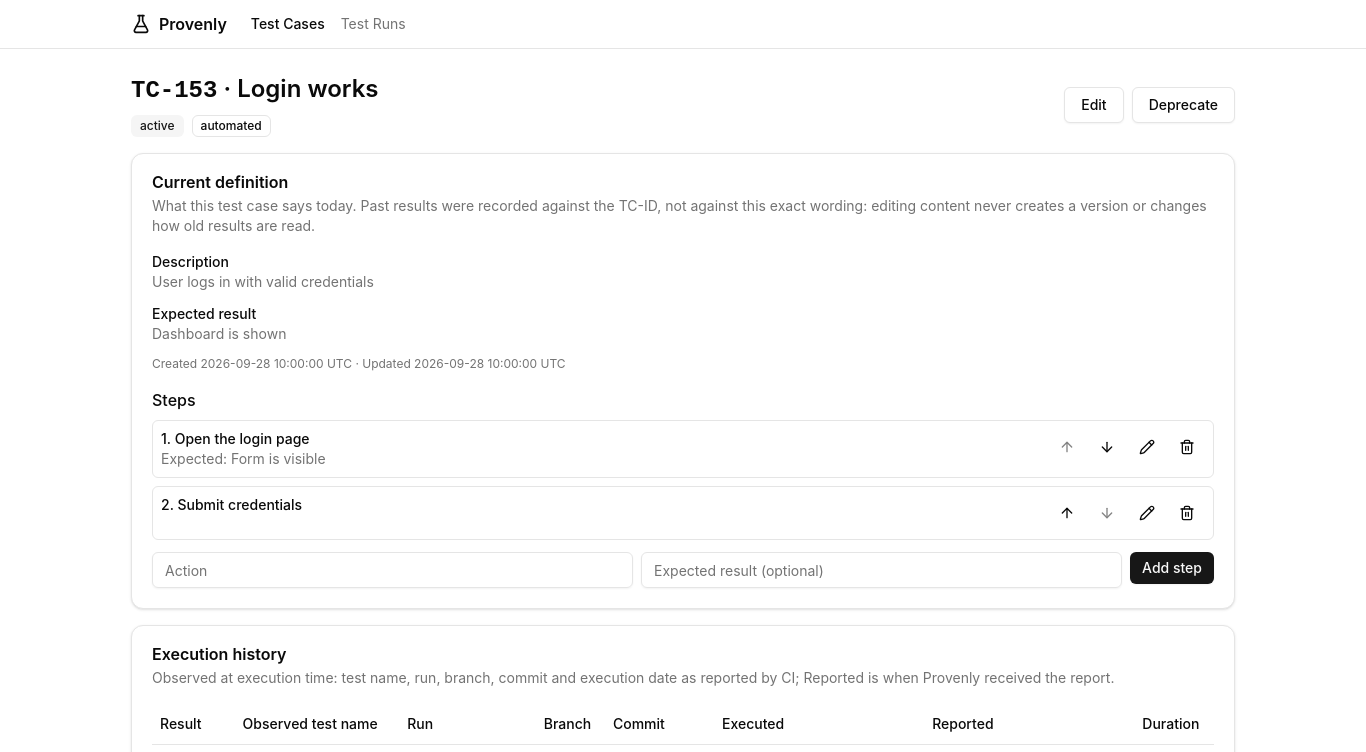
Scenario: FE-INT-019 step editor feedback › FE-INT-019 a rejected step keeps what was typed; only the latest error shows; failures refetch the list
Expected: the list named "Steps" is shown, [152, 420, 1214, 540]
Type "keep me" into the field named "Step action".
click(392, 570); type("keep me")  # box [152, 552, 633, 588]
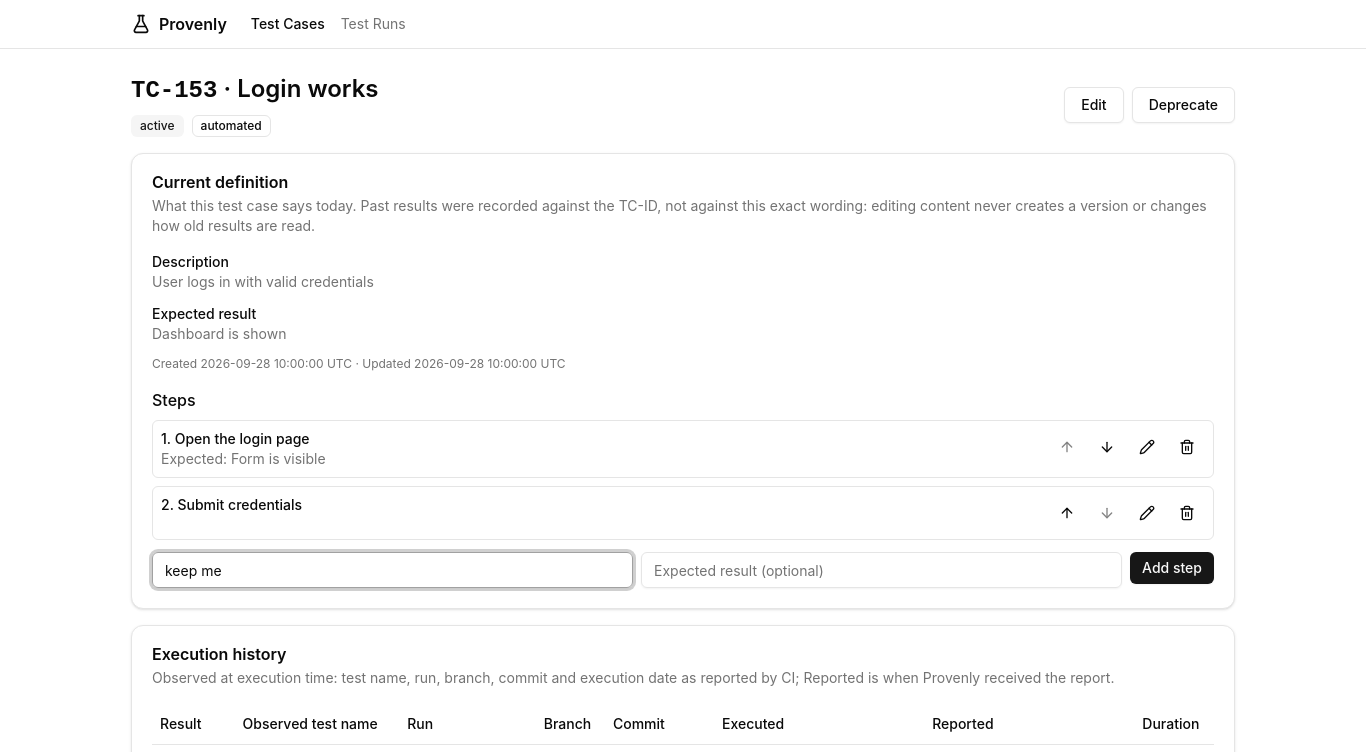
Type "and me" into the field named "Step expected result".
click(882, 570); type("and me")  # box [641, 552, 1122, 588]
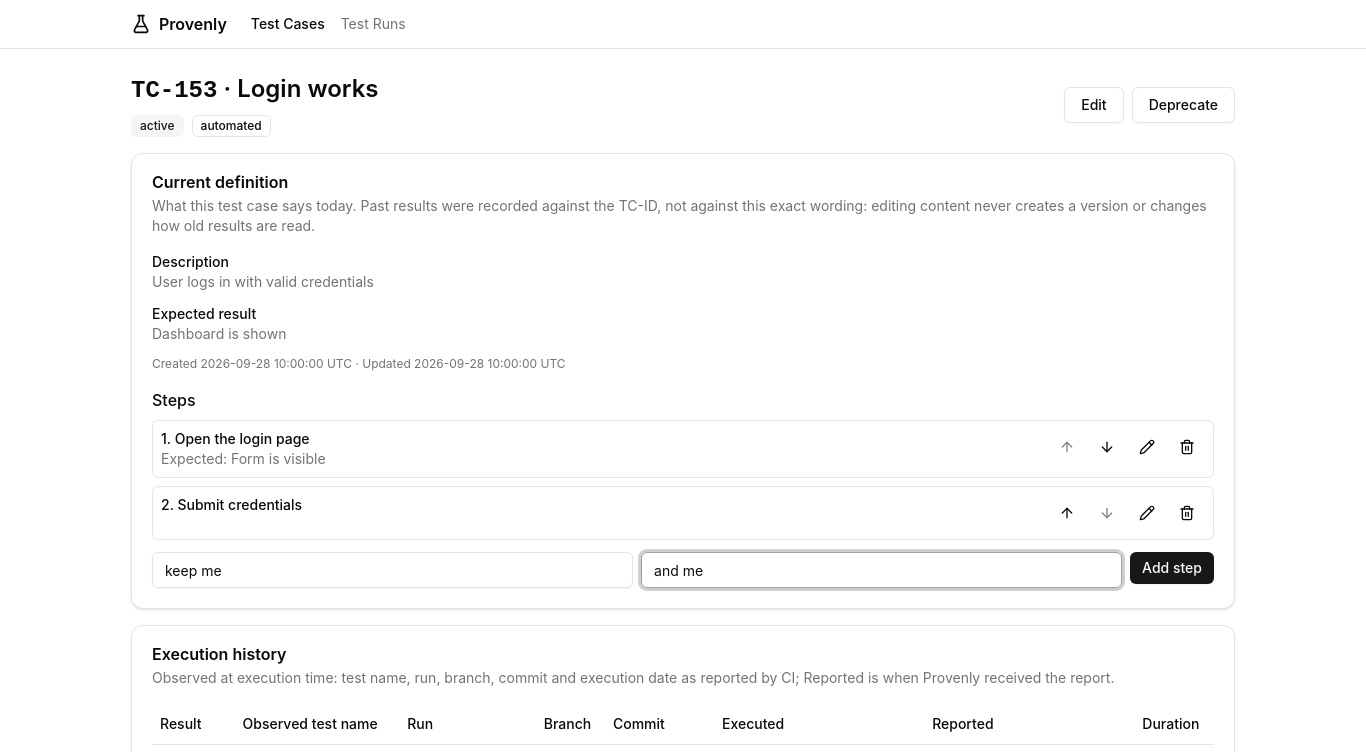
Click the button "Add step".
click(1172, 568)  # box [1130, 552, 1214, 584]
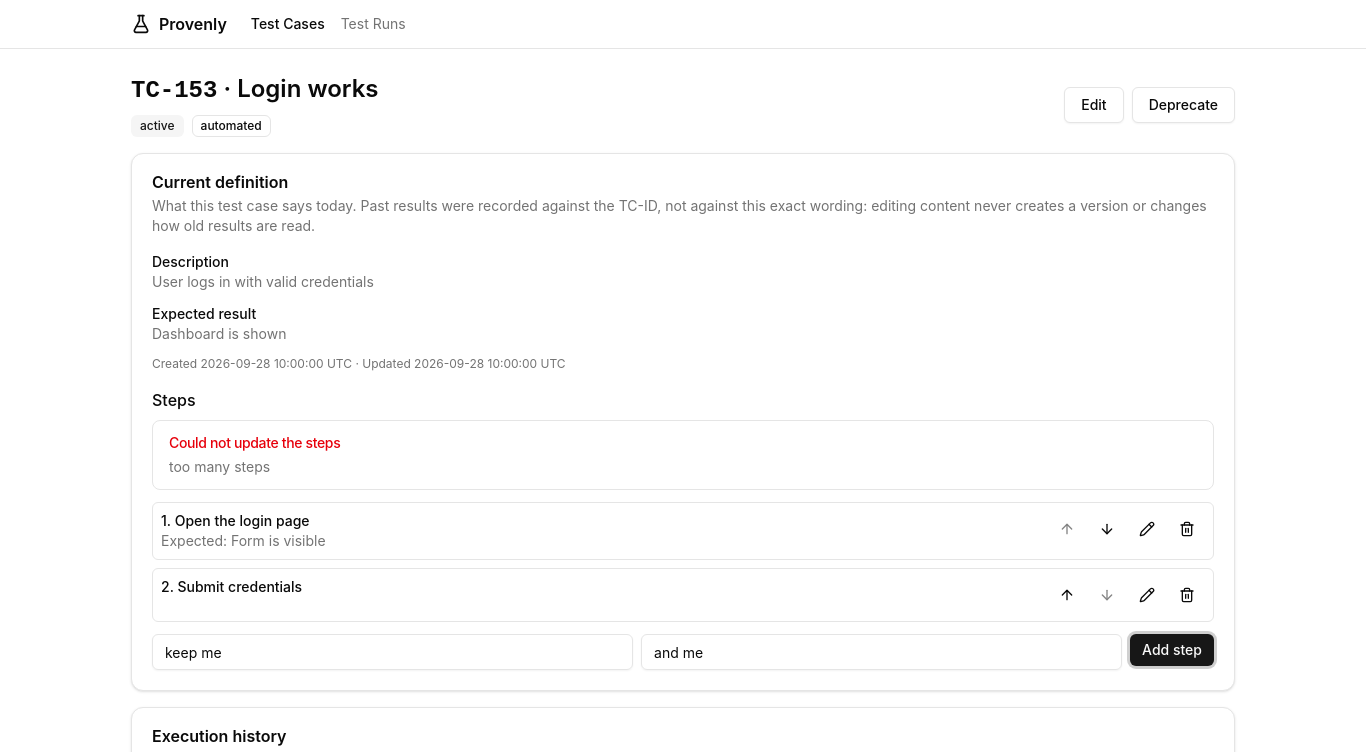
Now the message shows "too many steps", box [169, 458, 270, 475]
Click the button named "Move step 1 down".
click(1107, 529)  # box [1089, 511, 1125, 547]
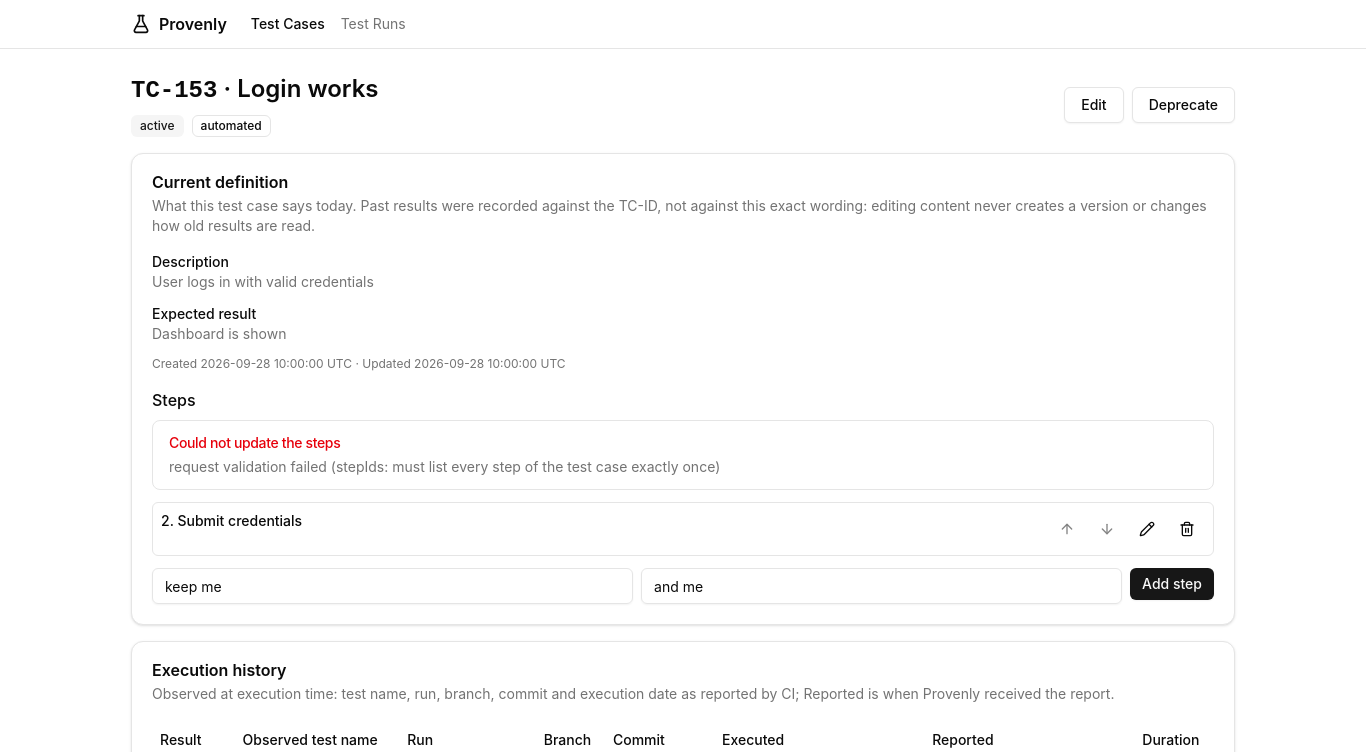
Now the message shows "must list every step", box [169, 458, 720, 475]
Now the message no longer shows "too many steps", box [152, 420, 1214, 490]
A later success clears the error and the form.
Click the button "Add step".
click(1172, 584)  # box [1130, 568, 1214, 600]
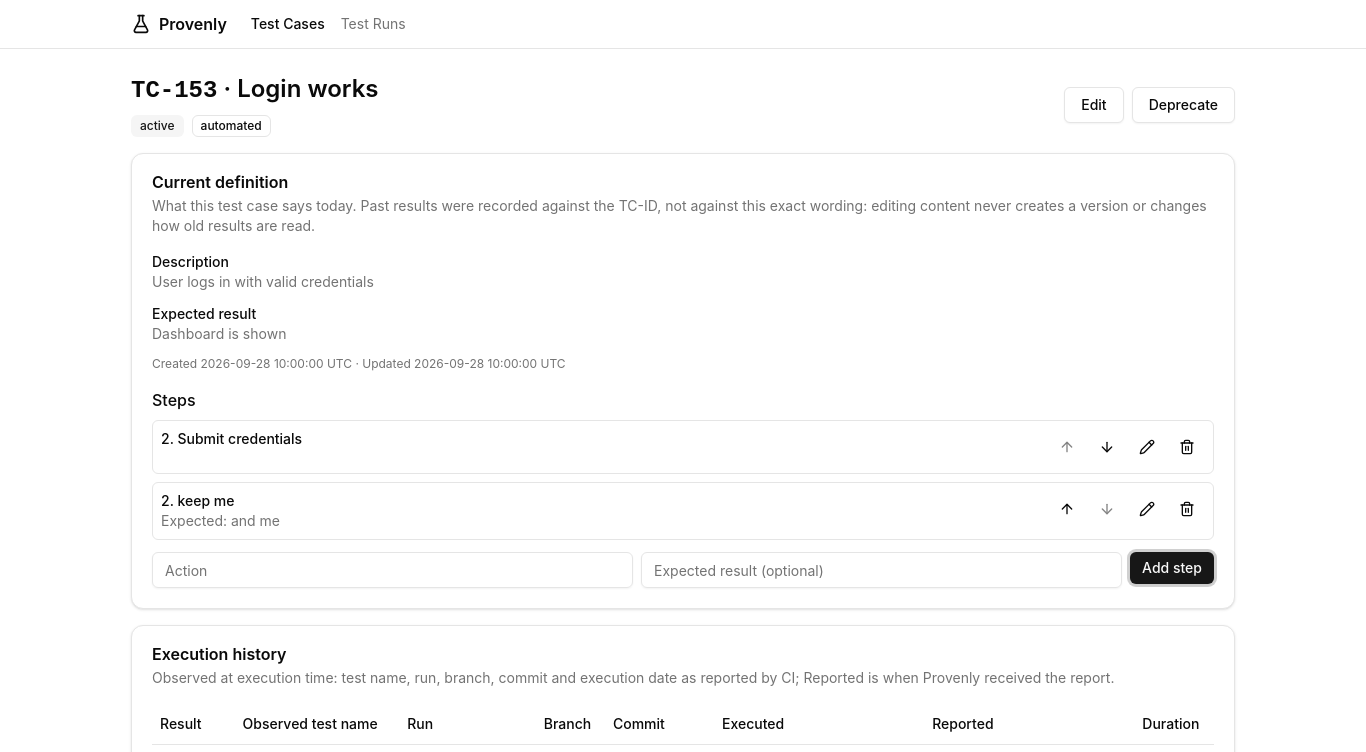
Now the message is gone
Now the field named "Step action" is empty, box [152, 552, 633, 588]
